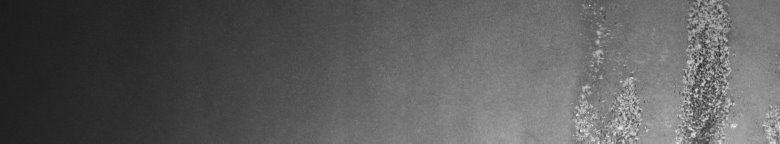hc: (573, 4, 737, 136)
